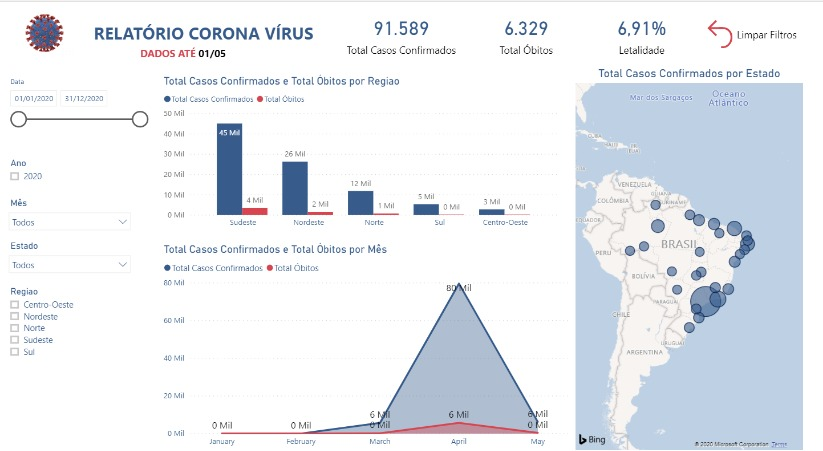

What the dashboard file says about the page in this screenshot:
{"tool":"powerbi","page":{"name":"Página Inicial","canvas":[1280,720],"ordinal":0},"visuals":[{"type":"image","box":[14.2,0,126.5,94.2],"z":0},{"type":"textbox","box":[140.6,27.1,392.3,50.3],"z":1000},{"type":"card","fields":{"Values":["fMetricas.Casos Novos"]},"box":[537.7,0,194.5,104.4],"z":2000},{"type":"card","fields":{"Values":["fMetricas.Óbitos Novos"]},"box":[732.2,0,204.5,104.4],"z":3000},{"type":"card","fields":{"Values":["fMetricas.Letalidade"]},"box":[925.3,0,185.9,104.4],"z":4000},{"type":"slicer","fields":{"Values":["dEstados.Estado"]},"box":[0,375.8,214.5,72.7],"z":5000},{"type":"slicer","fields":{"Values":["dCorona.regiao"]},"box":[0,448.5,214.5,122.4],"z":6000},{"type":"slicer","fields":{"Values":["dCalendario.Date"]},"box":[0,117.3,243.1,113],"z":7000},{"type":"map","fields":{"Category":["dEstados.Estado"],"Size":["fMetricas.Total Casos Confirmados"]},"box":[908.4,104.5,371.6,615.5],"z":8000},{"type":"slicer","fields":{"Values":["dCalendario.Ano"]},"box":[0,244.6,214.5,74.4],"z":9000},{"type":"slicer","fields":{"Values":["dCalendario.Mês"]},"box":[0,307.9,214.5,76.4],"z":10000},{"type":"clusteredColumnChart","title":"Total Casos Confirmados e Total Óbitos por Regiao","fields":{"Category":["dCorona.regiao","dEstados.Estado"],"Y":["fMetricas.Total Casos Confirmados","fMetricas.Total Óbitos"]},"box":[251.7,117.3,637.9,254.6],"z":11000},{"type":"areaChart","fields":{"Category":["dCalendario.Mês","dCalendario.Dia"],"Y":["fMetricas.Total Casos Confirmados","fMetricas.Total Óbitos"]},"box":[251.7,384.7,656.4,334.7],"z":12000},{"type":"actionButton","box":[1111,19.4,158.7,65.8],"z":13000},{"type":"textbox","box":[214.5,66.7,214.5,37.6],"z":14000}]}

Visuals, with their boxes in screenshot pixels (x1, y1, x2, y2), scaled from the page's 1280x720 canvas onto the 823x451 screenshot:
image: (left=9, top=0, right=90, bottom=59)
textbox: (left=90, top=17, right=343, bottom=48)
card - fMetricas.Casos Novos: (left=346, top=0, right=471, bottom=65)
card - fMetricas.Óbitos Novos: (left=471, top=0, right=602, bottom=65)
card - fMetricas.Letalidade: (left=595, top=0, right=714, bottom=65)
slicer - dEstados.Estado: (left=0, top=235, right=138, bottom=281)
slicer - dCorona.regiao: (left=0, top=281, right=138, bottom=358)
slicer - dCalendario.Date: (left=0, top=73, right=156, bottom=144)
map - dEstados.Estado x fMetricas.Total Casos Confirmados: (left=584, top=65, right=822, bottom=450)
slicer - dCalendario.Ano: (left=0, top=153, right=138, bottom=200)
slicer - dCalendario.Mês: (left=0, top=193, right=138, bottom=241)
"Total Casos Confirmados e Total Óbitos por Regiao" clusteredColumnChart: (left=162, top=73, right=572, bottom=233)
areaChart - dCalendario.Mês x dCalendario.Dia: (left=162, top=241, right=584, bottom=450)
actionButton: (left=714, top=12, right=816, bottom=53)
textbox: (left=138, top=42, right=276, bottom=65)
